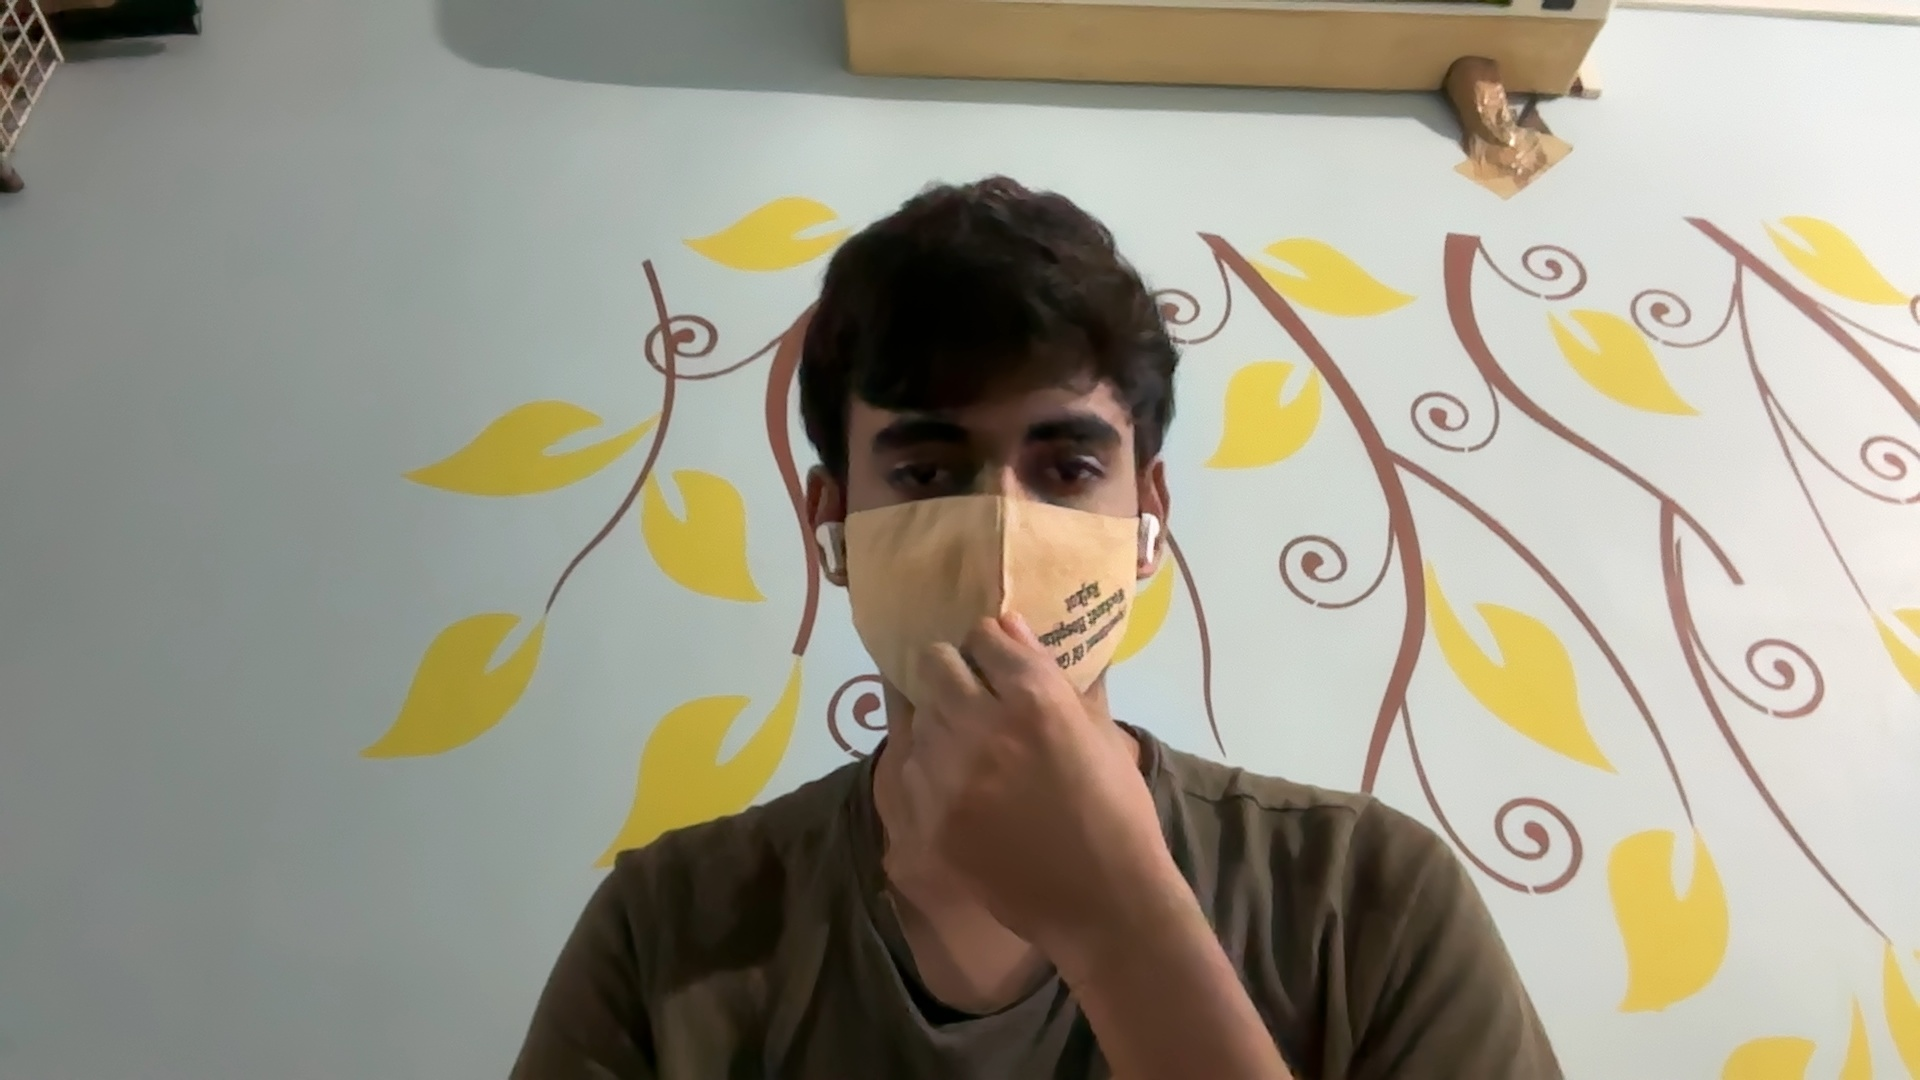Mask: (837, 495, 1151, 708)
